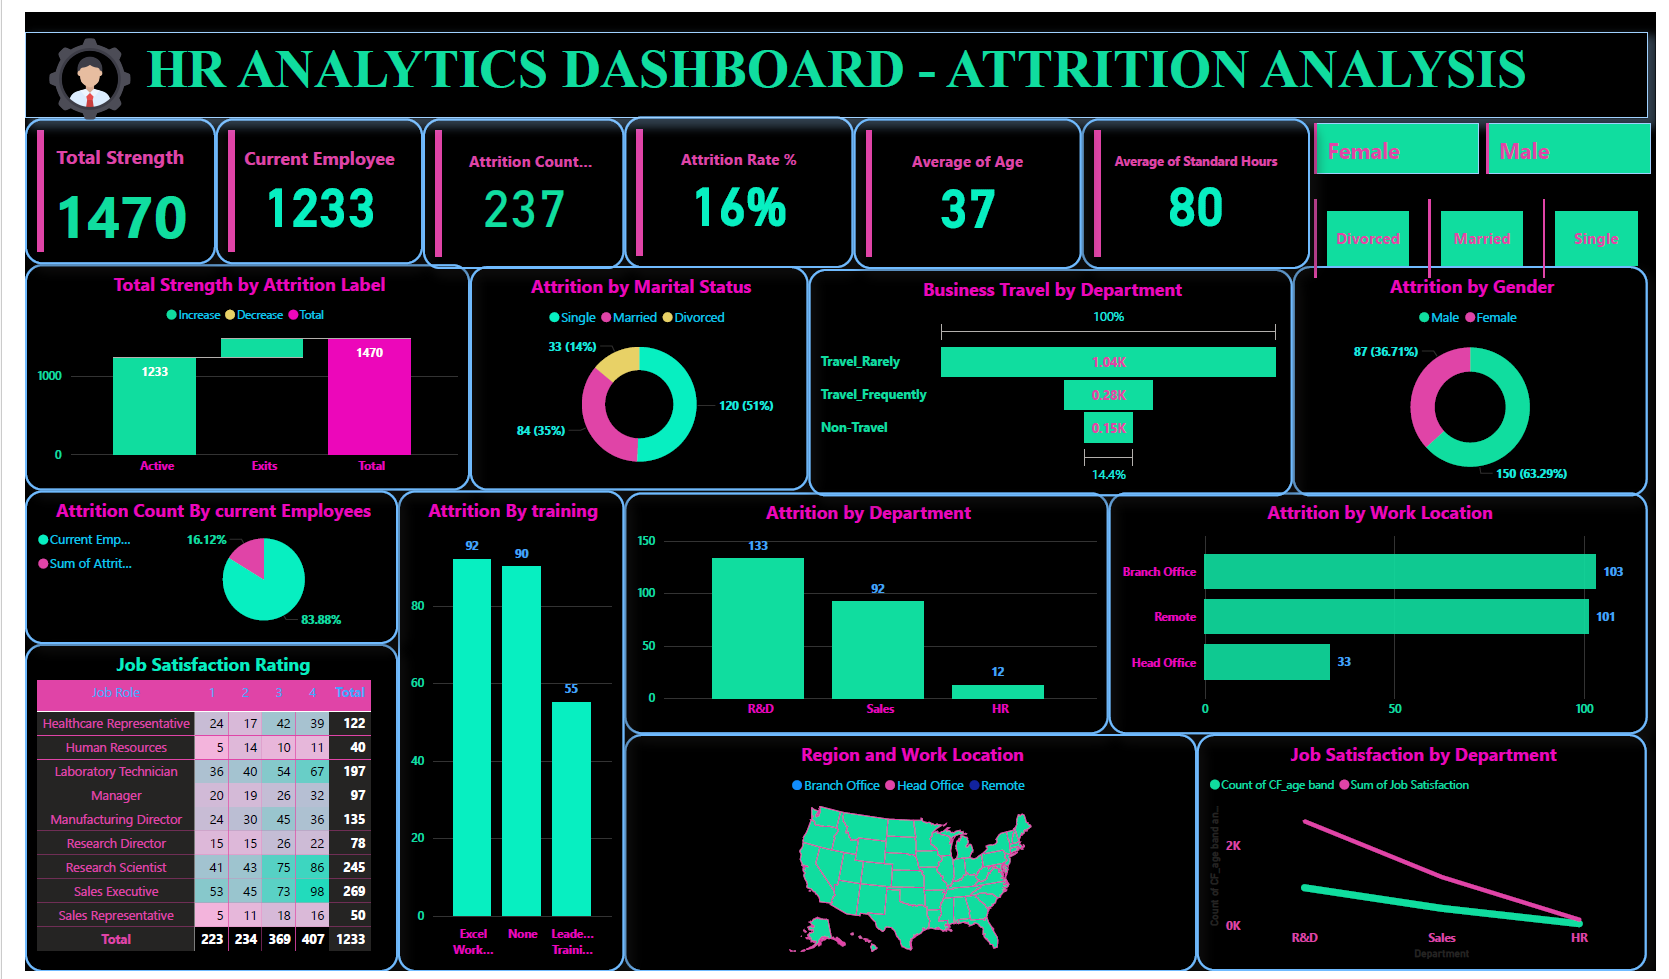

Layout of this report page (visuals, bound fields, positions):
{"tool":"powerbi","page":{"name":"Attrition Analysis By Education, % Salary hike","canvas":[1700,1000],"ordinal":0},"visuals":[{"type":"donutChart","title":"Attrition by Gender","fields":{"Category":["HR_Analytics.Gender"],"Y":["Sum(HR_Analytics.Attrition Count Values)"]},"box":[1321.7,264.7,369.8,240.3],"z":0},{"type":"waterfallChart","fields":{"Category":["HR_Analytics.Attrition Label"],"Y":["HR_Analytics.Total Strength"]},"box":[0,262.8,463.7,236.6],"z":1000},{"type":"cardVisual","fields":{"Data":["HR_Analytics.Total Strength"]},"box":[0,110.8,199,152.1],"z":2000},{"type":"cardVisual","fields":{"Data":["HR_Analytics.Current Employee"]},"box":[199,110.8,215.9,152.1],"z":3000},{"type":"cardVisual","fields":{"Data":["Sum(HR_Analytics.Attrition Count Values)"]},"box":[414.9,110.8,210.3,157.7],"z":4000},{"type":"cardVisual","fields":{"Data":["HR_Analytics.Attrition Rate %"]},"box":[625.2,108.9,238.4,157.7],"z":5000},{"type":"pivotTable","title":"Job Satisfaction Rating","fields":{"Columns":["HR_Analytics.Job Satisfaction"],"Rows":["HR_Analytics.Job Role"],"Values":["HR_Analytics.Current Employee"]},"box":[0,659,388.6,341.7],"z":6000},{"type":"textbox","box":[0,20.7,1691.5,90.1],"z":7000},{"type":"donutChart","title":"Attrition by Marital Status","fields":{"Category":["HR_Analytics.Marital Status"],"Y":["Sum(HR_Analytics.Attrition Count Values)"]},"box":[463.7,264.7,352.9,234.7],"z":8000},{"type":"columnChart","title":"Attrition by Department","fields":{"Category":["HR_Analytics.Department"],"Y":["Sum(HR_Analytics.Attrition Count Values)"]},"box":[625.2,501.3,505,251.6],"z":9000},{"type":"clusteredBarChart","title":"Attrition by Work Location","fields":{"Category":["HR_Analytics.Work Location"],"Y":["Sum(HR_Analytics.Attrition Count Values)"]},"box":[1130.2,501.3,561.3,251.6],"z":10000},{"type":"funnel","title":"Business Travel by Department","fields":{"Category":["HR_Analytics.Business Travel"],"Y":["CountNonNull(HR_Analytics.Department)"]},"box":[816.7,268.5,505,236.6],"z":11000},{"type":"image","box":[16.9,20.7,101.4,97.6],"z":12000},{"type":"shapeMap","fields":{"Category":["HR_Analytics.Region"],"Series":["HR_Analytics.Work Location"]},"box":[625.2,752.8,597,247.8],"z":13000},{"type":"lineChart","title":"Job Satisfaction by Department","fields":{"Category":["HR_Analytics.Department"],"Y":["CountNonNull(HR_Analytics.CF_age band)","Sum(HR_Analytics.Job Satisfaction)"]},"box":[1222,753,469,247],"z":14000},{"type":"advancedSlicerVisual","fields":{"Values":["HR_Analytics.Gender"]},"box":[1340.5,110.8,360.5,62],"z":15000},{"type":"advancedSlicerVisual","fields":{"Values":["HR_Analytics.Marital Status"]},"box":[1340.5,189.6,360.5,92],"z":16000},{"type":"cardVisual","fields":{"Data":["Avg(HR_Analytics.Standard Hours)"]},"box":[1102,110.8,238.4,157.7],"z":17000},{"type":"cardVisual","fields":{"Data":["Avg(HR_Analytics.Age)"]},"box":[863.6,110.8,238.4,157.7],"z":18000},{"type":"lineClusteredColumnComboChart","title":"Attrition By training ","fields":{"Category":["HR_Analytics.Training Programs Attended"],"Y":["Sum(HR_Analytics.Attrition Count Values)"]},"box":[388.6,499.4,236.6,501.3],"z":19000},{"type":"pieChart","title":"Attrition Count By current Employees","fields":{"Y":["HR_Analytics.Current Employee","Sum(HR_Analytics.Attrition Count Values)"]},"box":[0,499.4,388.6,159.6],"z":20000}]}

Visuals, with their boxes in screenshot pixels (x1, y1, x2, y2), scaled from the page's 1700x1000 canvas onto the 1669x979 screenshot:
"Attrition by Gender" donutChart: (x1=1298, y1=259, x2=1661, y2=494)
waterfallChart - HR_Analytics.Attrition Label x HR_Analytics.Total Strength: (x1=0, y1=257, x2=455, y2=489)
cardVisual - HR_Analytics.Total Strength: (x1=0, y1=108, x2=195, y2=257)
cardVisual - HR_Analytics.Current Employee: (x1=195, y1=108, x2=407, y2=257)
cardVisual - Sum(HR_Analytics.Attrition Count Values): (x1=407, y1=108, x2=614, y2=263)
cardVisual - HR_Analytics.Attrition Rate %: (x1=614, y1=107, x2=848, y2=261)
"Job Satisfaction Rating" pivotTable: (x1=0, y1=645, x2=382, y2=978)
textbox: (x1=0, y1=20, x2=1661, y2=108)
"Attrition by Marital Status" donutChart: (x1=455, y1=259, x2=802, y2=489)
"Attrition by Department" columnChart: (x1=614, y1=491, x2=1110, y2=737)
"Attrition by Work Location" clusteredBarChart: (x1=1110, y1=491, x2=1661, y2=737)
"Business Travel by Department" funnel: (x1=802, y1=263, x2=1298, y2=494)
image: (x1=17, y1=20, x2=116, y2=116)
shapeMap - HR_Analytics.Region x HR_Analytics.Work Location: (x1=614, y1=737, x2=1200, y2=978)
"Job Satisfaction by Department" lineChart: (x1=1200, y1=737, x2=1660, y2=978)
advancedSlicerVisual - HR_Analytics.Gender: (x1=1316, y1=108, x2=1668, y2=169)
advancedSlicerVisual - HR_Analytics.Marital Status: (x1=1316, y1=186, x2=1668, y2=276)
cardVisual - Avg(HR_Analytics.Standard Hours): (x1=1082, y1=108, x2=1316, y2=263)
cardVisual - Avg(HR_Analytics.Age): (x1=848, y1=108, x2=1082, y2=263)
"Attrition By training " lineClusteredColumnComboChart: (x1=382, y1=489, x2=614, y2=978)
"Attrition Count By current Employees" pieChart: (x1=0, y1=489, x2=382, y2=645)
